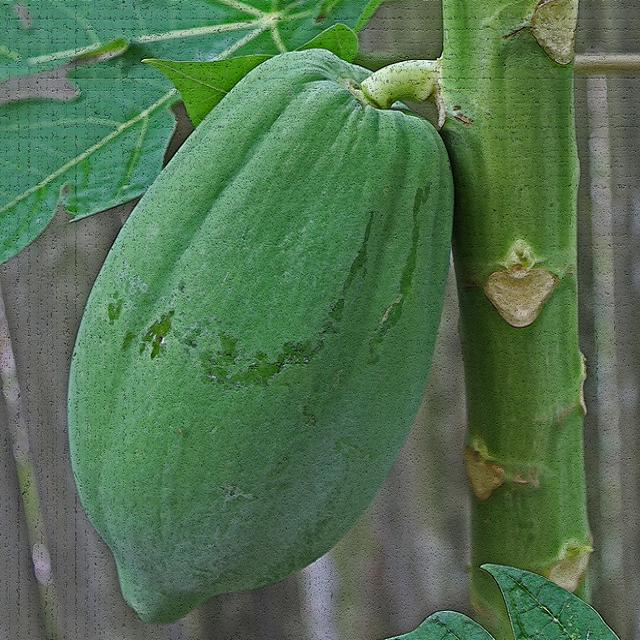Pepaya unrippen: (61, 55, 442, 625)
